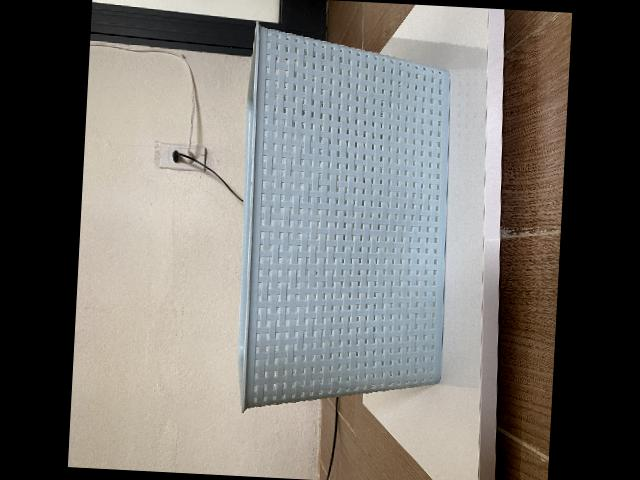cart: (238, 19, 453, 412)
